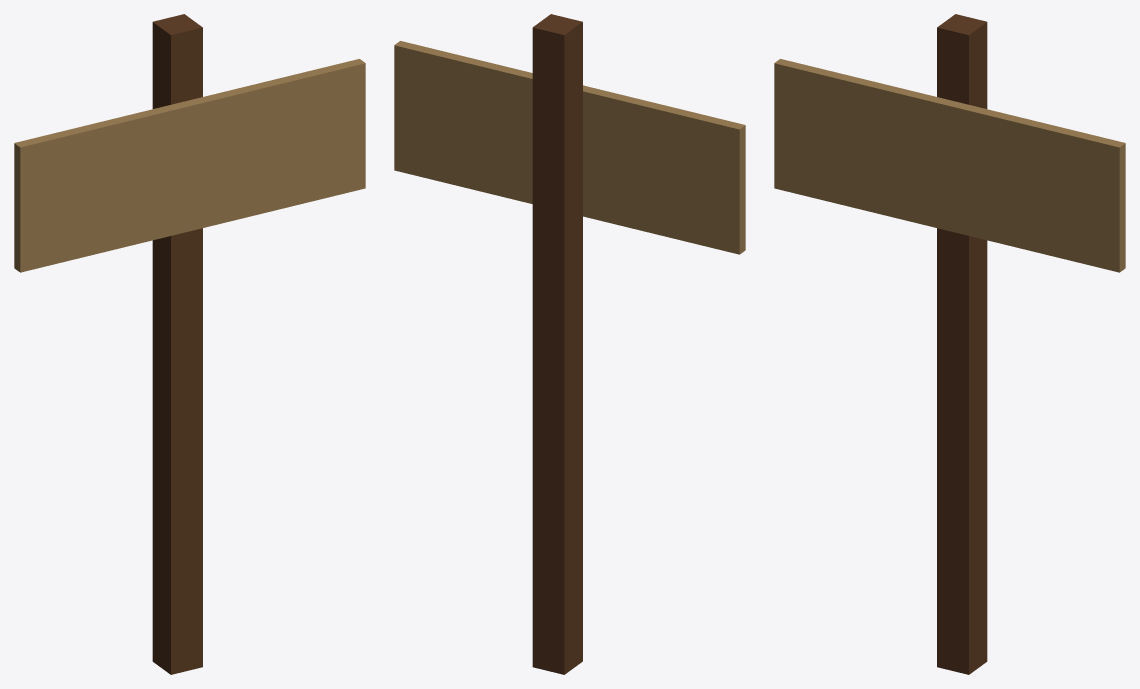
File: wp-signpost.glb
3 views of the same model, side by side, from view 1: azimuth 30°, elevation 25°; view 2: azimuth 150°, elevation 25°; view 3: azimuth 330°, elevation 25° (orthographic).
Parts seen in each view (by area): view 1: Board, Post; view 2: Board, Post; view 3: Board, Post.
Part boxes in pixels (left/top/right/bottom): Board: left=14, top=59, right=365, bottom=272; Post: left=152, top=14, right=202, bottom=674; Board: left=394, top=41, right=745, bottom=254; Post: left=532, top=14, right=582, bottom=674; Board: left=774, top=59, right=1125, bottom=272; Post: left=937, top=14, right=987, bottom=674.
Size of the model in its own units: 1.3 by 2.3 by 0.16.
